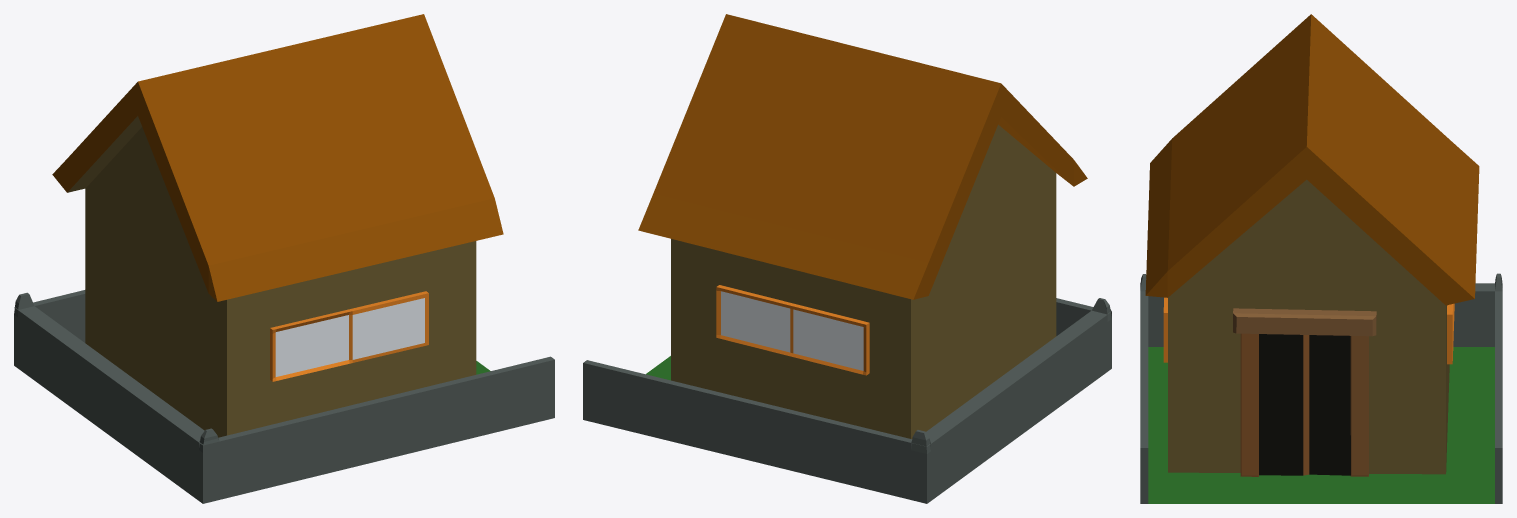
Rendered from rumahaisyah.fbx.
3 renders of one model, left to right at view 1: azimuth 30°, elevation 25°; view 2: azimuth 150°, elevation 25°; view 3: azimuth 270°, elevation 25°, orthographic. The views are drawn at different scales.
Visible parts, largest first — view 1: Cube.001, Cube.004; view 2: Cube.001, Cube.004; view 3: Cube.001, Cube.004.
Boxes of the visible parts, left/top/right/bottom form: Cube.001: left=52, top=14, right=503, bottom=437; Cube.004: left=14, top=290, right=554, bottom=503; Cube.001: left=638, top=14, right=1087, bottom=438; Cube.004: left=583, top=298, right=1111, bottom=503; Cube.001: left=1145, top=14, right=1479, bottom=476; Cube.004: left=1140, top=273, right=1502, bottom=503.
Size of the model in its own units: 3072 by 2930 by 2857.
